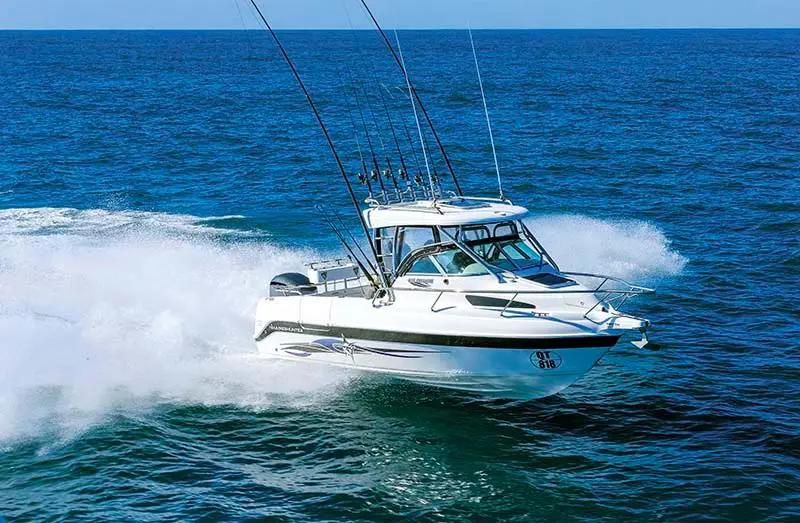fishing boat: (246, 1, 659, 402)
